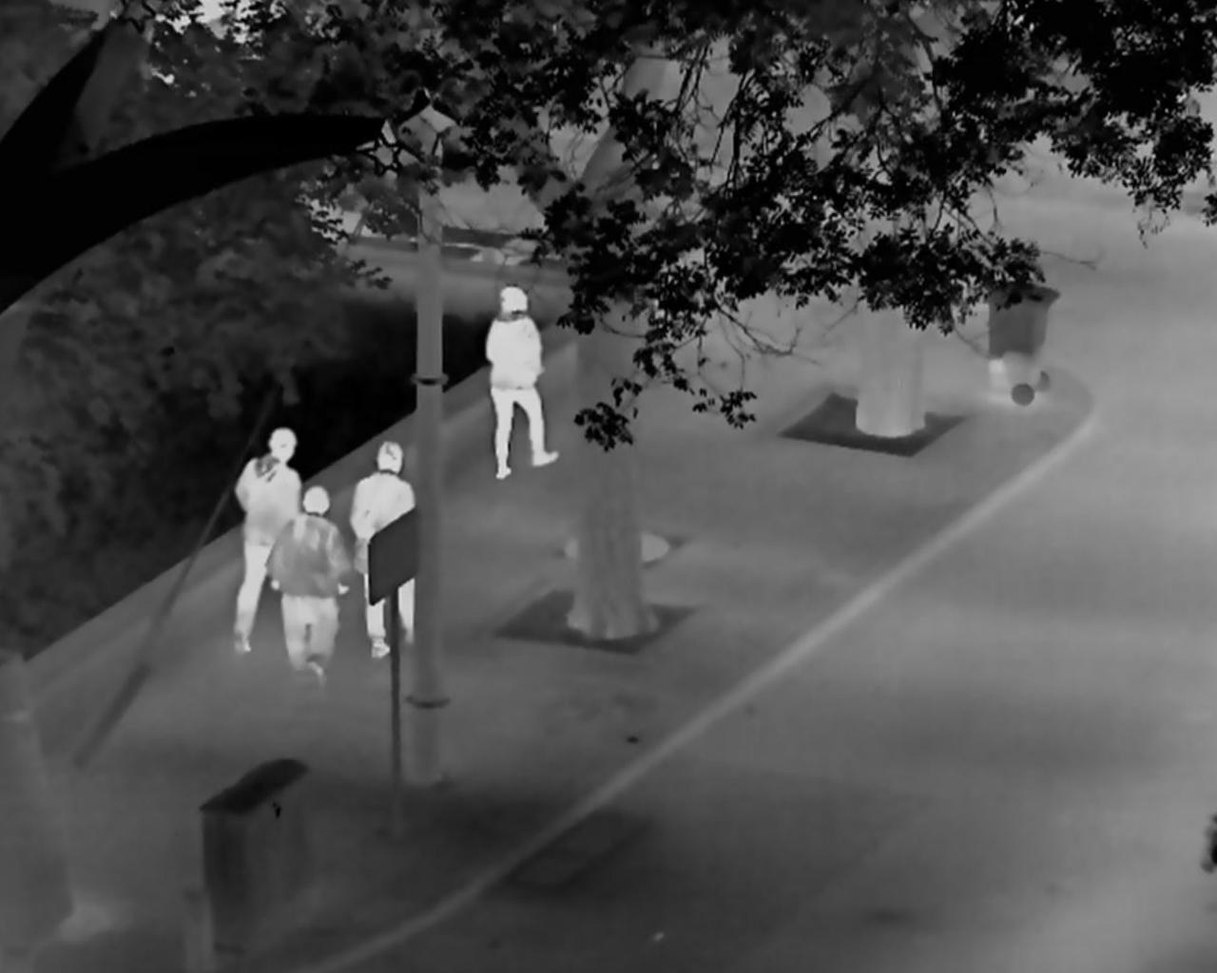person: (229, 427, 301, 657), (266, 486, 348, 682), (484, 283, 563, 480), (348, 440, 419, 658)
